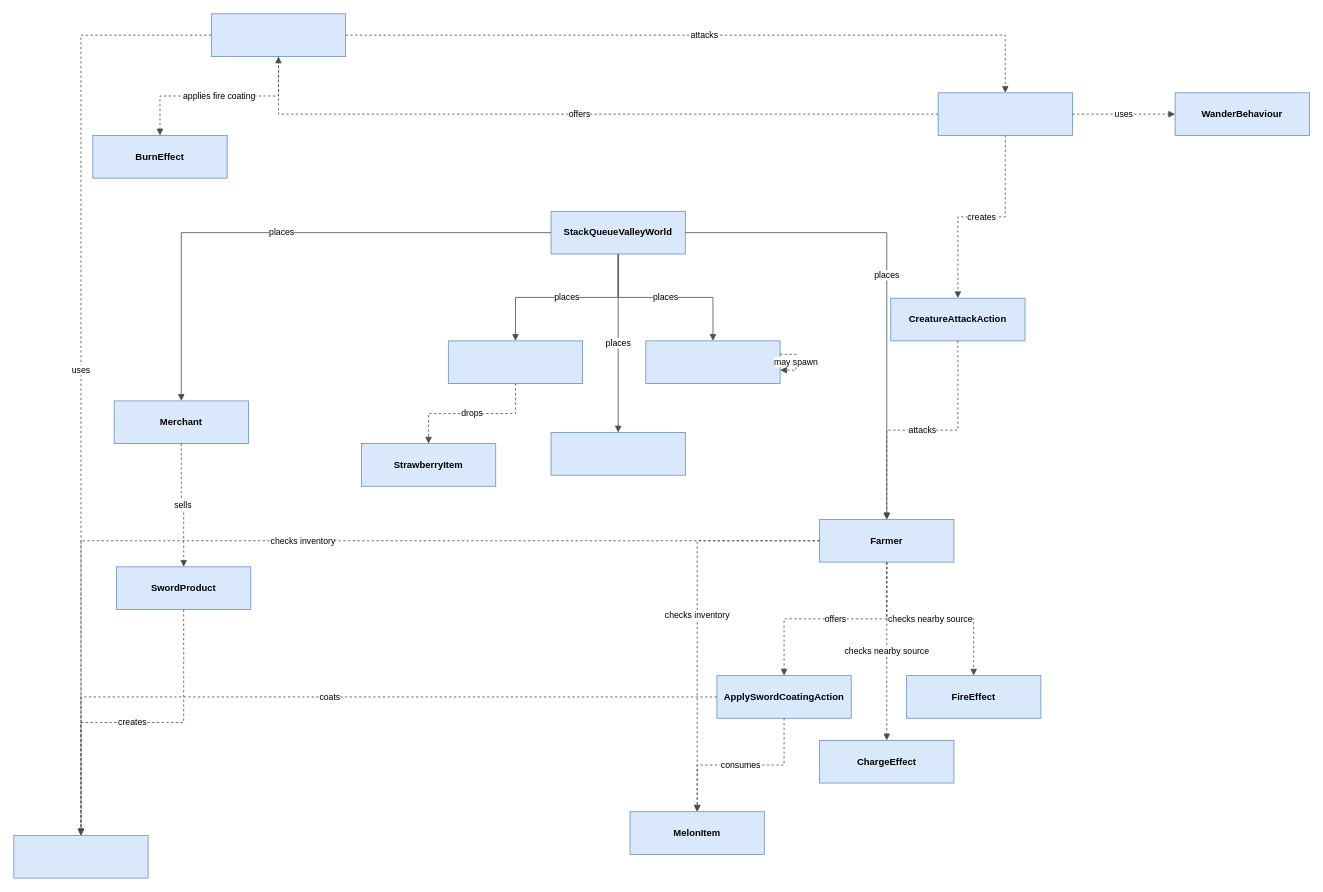
The diagram is 1323 pixels wide and 892 high, and some of its shapes have lost their labels. The box of each missing label's shape, as (x1, y1, x2, y2) in pixels:
Bat: (448, 340, 583, 384)
CaveGhost: (550, 432, 685, 475)
HostileCreature: (937, 92, 1072, 135)
Slime: (645, 340, 780, 384)
Sword: (13, 835, 148, 878)
SwordAttackAction: (211, 13, 346, 56)
